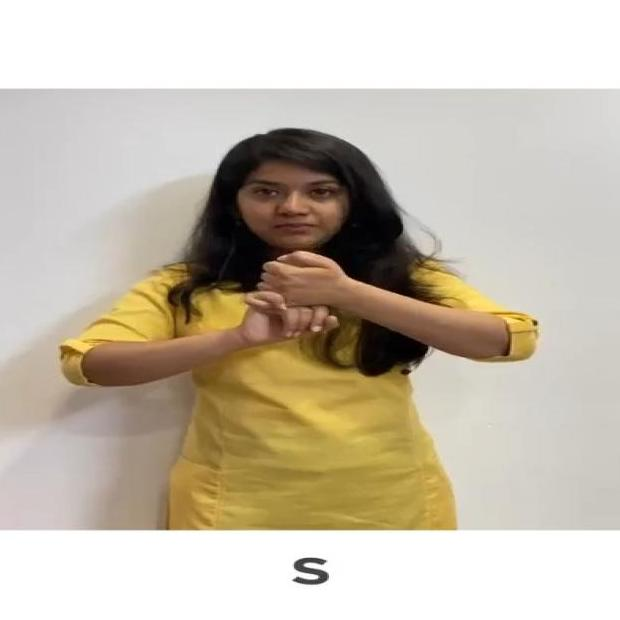R: (227, 241, 370, 349)
